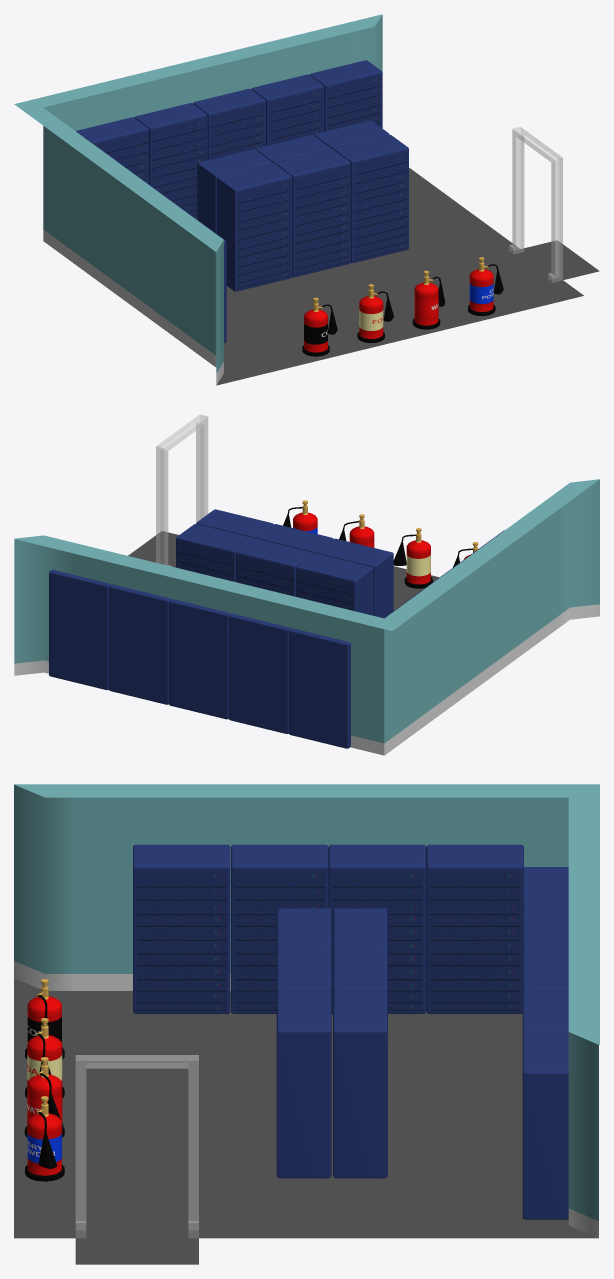
The model's file is Server.fbx.
The picture shows the model from 3 angles, top to bottom: view 1: azimuth 30°, elevation 25°; view 2: azimuth 150°, elevation 25°; view 3: azimuth 270°, elevation 25°; orthographic projection. The views are drawn at different scales.
Parts seen in each view (by area): view 1: polySurface89, Servers1, polySurface83, Servers, polySurface80, polySurface82, polySurface81, ServerDoorFrame, polySurface85, FoamExtinguisher, DryPowderExtinguisher, CO2Extinguisher (+1 smaller); view 2: polySurface89, Servers, polySurface85, polySurface81, polySurface82, polySurface83, polySurface80, Servers1, ServerDoorFrame, FoamExtinguisher, DryPowderExtinguisher, WaterExtinguisher; view 3: polySurface89, polySurface88, polySurface84, Servers1, Servers, polySurface87, polySurface86, polySurface80, ServerDoorFrame, DryPowderExtinguisher, polySurface83, polySurface85 (+5 smaller).
Boxes of the visible parts, left/top/right/bottom form: polySurface89: left=14, top=14, right=599, bottom=385; Servers1: left=216, top=135, right=408, bottom=291; polySurface83: left=134, top=103, right=207, bottom=218; Servers: left=197, top=120, right=389, bottom=233; polySurface80: left=309, top=60, right=382, bottom=131; polySurface82: left=193, top=88, right=265, bottom=160; polySurface81: left=251, top=74, right=324, bottom=145; ServerDoorFrame: left=509, top=127, right=562, bottom=282; polySurface85: left=76, top=117, right=148, bottom=183; FoamExtinguisher: left=357, top=284, right=393, bottom=342; DryPowderExtinguisher: left=468, top=257, right=503, bottom=316; CO2Extinguisher: left=302, top=297, right=337, bottom=356; polySurface89: left=14, top=479, right=599, bottom=755; Servers: left=176, top=524, right=373, bottom=615; polySurface85: left=289, top=628, right=350, bottom=748; polySurface81: left=109, top=584, right=170, bottom=704; polySurface82: left=169, top=599, right=230, bottom=719; polySurface83: left=229, top=613, right=290, bottom=733; polySurface80: left=49, top=570, right=110, bottom=690; Servers1: left=196, top=509, right=393, bottom=618; ServerDoorFrame: left=156, top=414, right=208, bottom=566; FoamExtinguisher: left=393, top=528, right=432, bottom=588; DryPowderExtinguisher: left=283, top=500, right=317, bottom=533; WaterExtinguisher: left=339, top=514, right=374, bottom=547; polySurface89: left=14, top=784, right=599, bottom=1264; polySurface88: left=133, top=844, right=230, bottom=1013; polySurface84: left=426, top=844, right=523, bottom=1013; Servers1: left=276, top=908, right=331, bottom=1178; Servers: left=333, top=908, right=387, bottom=1178; polySurface87: left=231, top=844, right=328, bottom=1013; polySurface86: left=328, top=844, right=426, bottom=1013; polySurface80: left=522, top=1032, right=568, bottom=1219; ServerDoorFrame: left=75, top=1055, right=198, bottom=1237; DryPowderExtinguisher: left=25, top=1096, right=64, bottom=1181; polySurface83: left=522, top=908, right=568, bottom=951; polySurface85: left=522, top=867, right=568, bottom=909.
Size of the model in its own units: 22 by 6.94 by 19.02.
12 materials, 5 textured.
